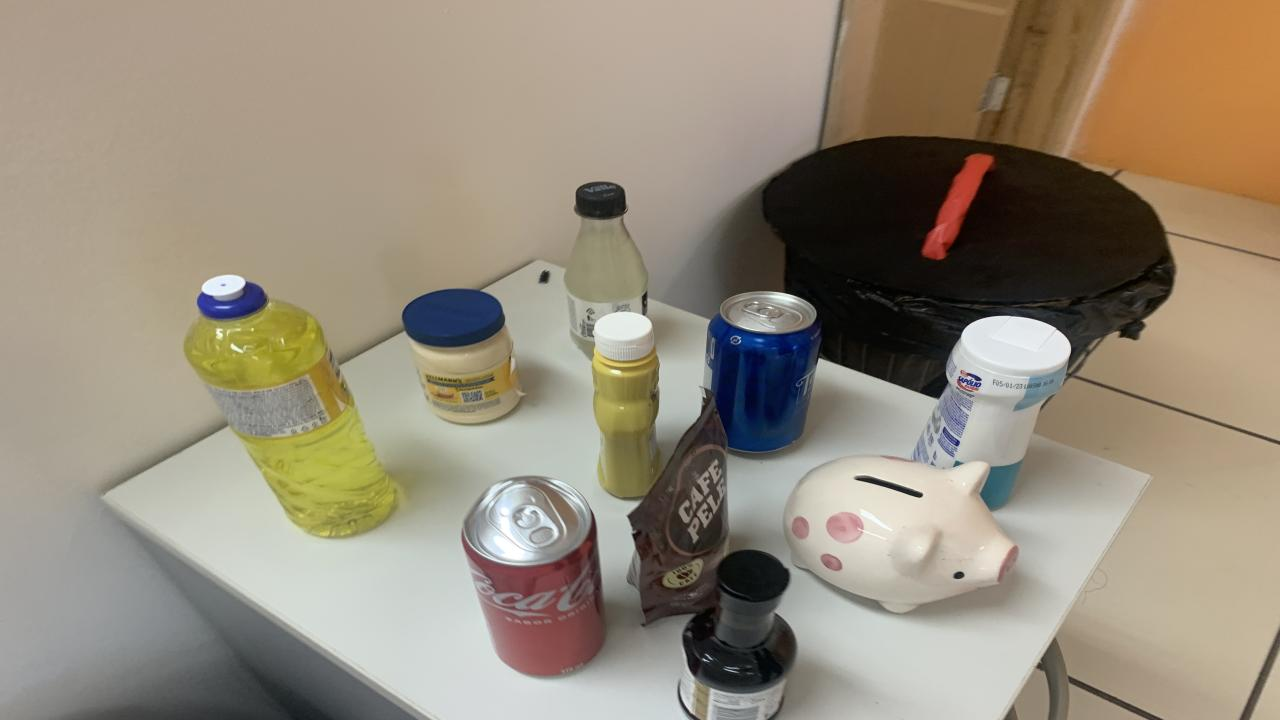Cleaner-Cleanup_Items: (912, 315, 1070, 508)
Coffee-Pantry_Items: (628, 390, 730, 624)
Coke-Drinks: (462, 476, 605, 677)
Detergent-Cleanup_Items: (185, 276, 395, 538)
English_Sauce-Pantry_Items: (678, 549, 798, 720)
Mayonnaise-Pantry_Items: (402, 289, 522, 424)
Mustard-Pantry_Items: (592, 311, 660, 497)
Pig_Safe-Miscellaneous: (782, 456, 1018, 613)
Soda-Drinks: (565, 182, 648, 356)
Tonic-Drinks: (705, 291, 820, 452)
